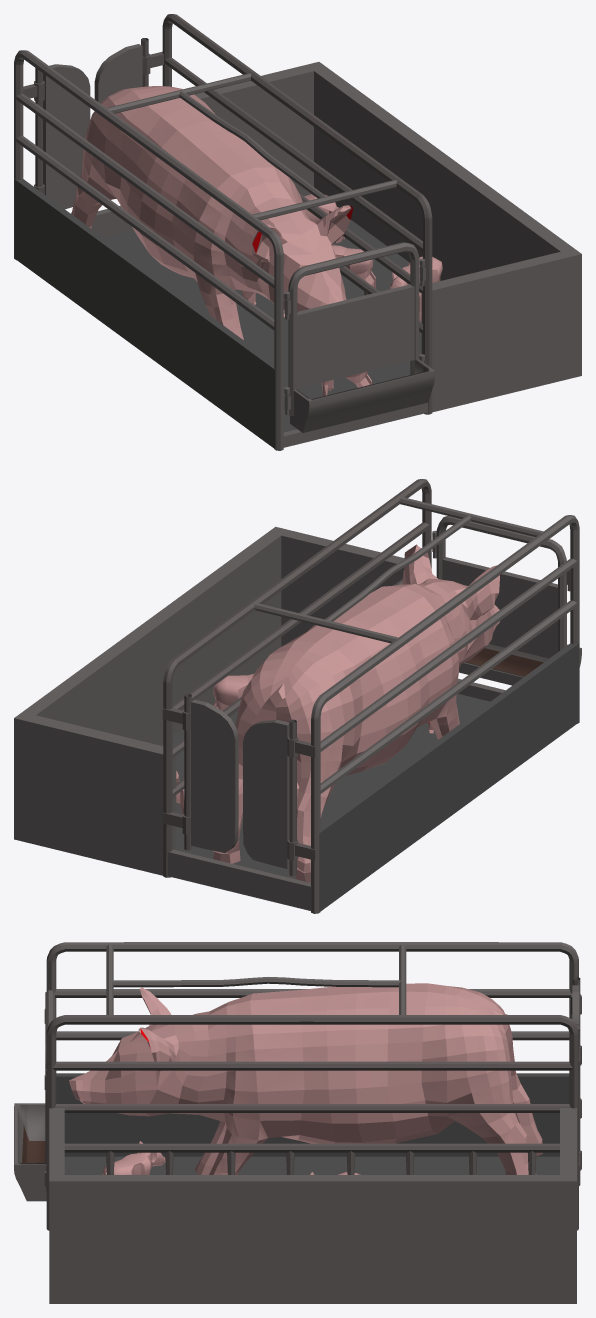
Rendered from PigPenBabies.fbx.
The picture shows the model from 3 angles, top to bottom: view 1: azimuth 30°, elevation 25°; view 2: azimuth 150°, elevation 25°; view 3: azimuth 270°, elevation 25°; orthographic projection.
Parts seen in each view (by area): view 1: Baby_pig_player7; view 2: Baby_pig_player7; view 3: Baby_pig_player7.
Boxes of the visible parts, x1,y1,x2,y2 form: Baby_pig_player7: [14, 14, 581, 450]; Baby_pig_player7: [14, 479, 581, 913]; Baby_pig_player7: [14, 942, 581, 1303].
Bounding box in the file's own units: 1.29 × 0.874 × 2.07.
